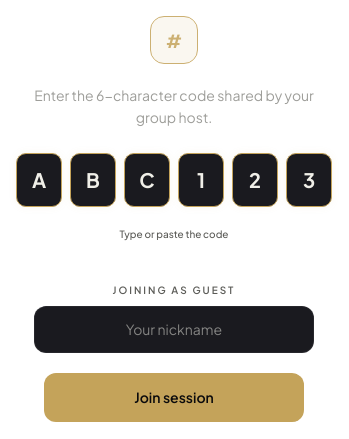
Test: SessionJoin › shows "Joining..." text in the button while loading
Type "Alice" into the field with placeholder "Your nickname". click: (174, 329)
box: [34,306,314,353]
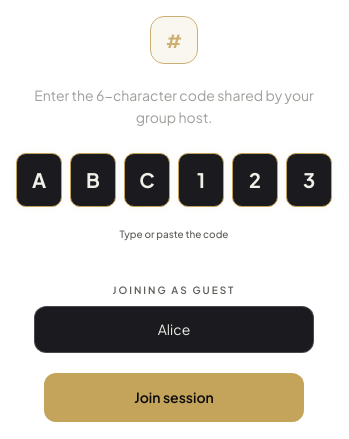
Click the button "Join session". click: (174, 397)
box: [44,373,304,422]
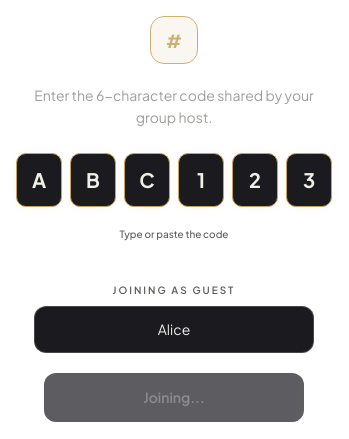
Result: the button "Joining..." is shown at [44,373,304,422]
